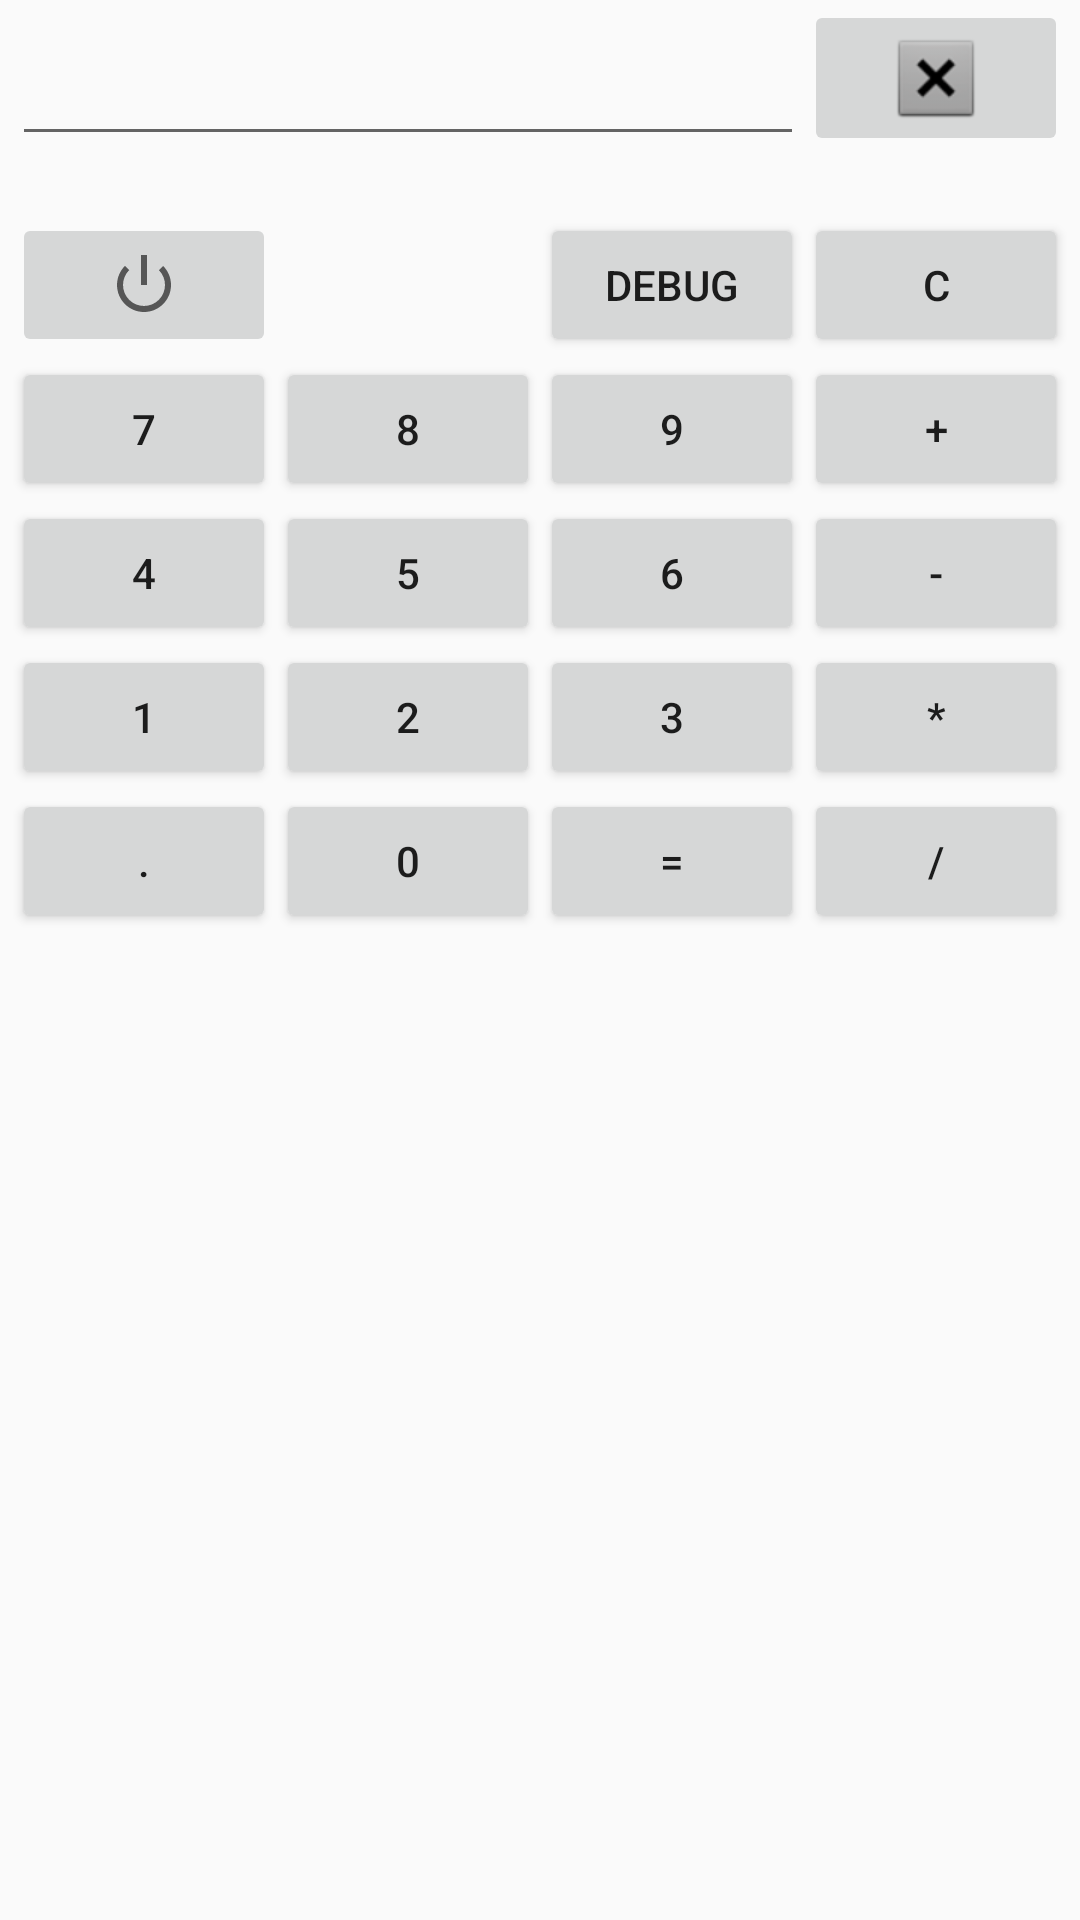

Icon bounding boxes for this 1080 × 1920 phone screenshot, format (x1, y1, x2, y2):
lock power off: (24, 231, 264, 339)
